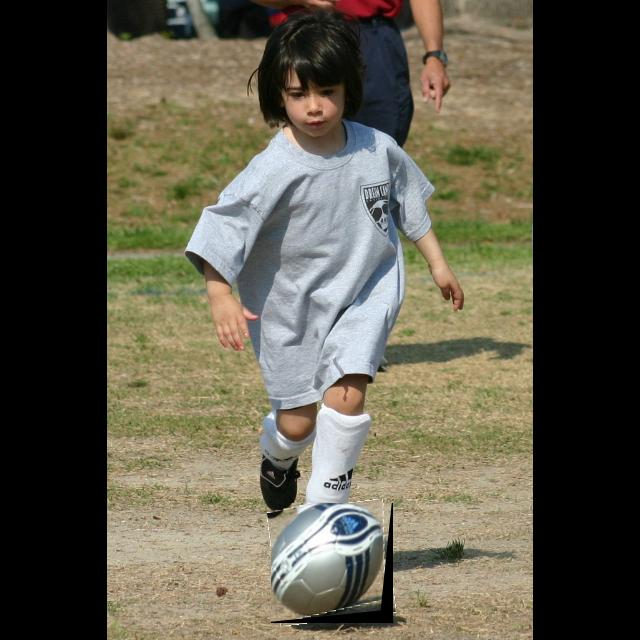Football: (271, 503, 393, 623)
